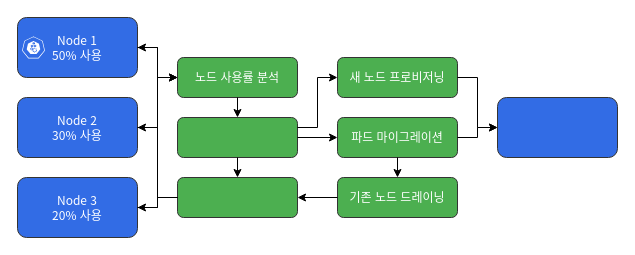
This 635x255 diagram has some shape labels left out. The shapes that lost their labels are listed below. From the top down, each one's centre as x and y in pixels, then its label:
At point (237, 137): "통합 가능성 평가".
At point (557, 127): "New Node 100% 사용".
At point (237, 197): "기존 노드 종료".
